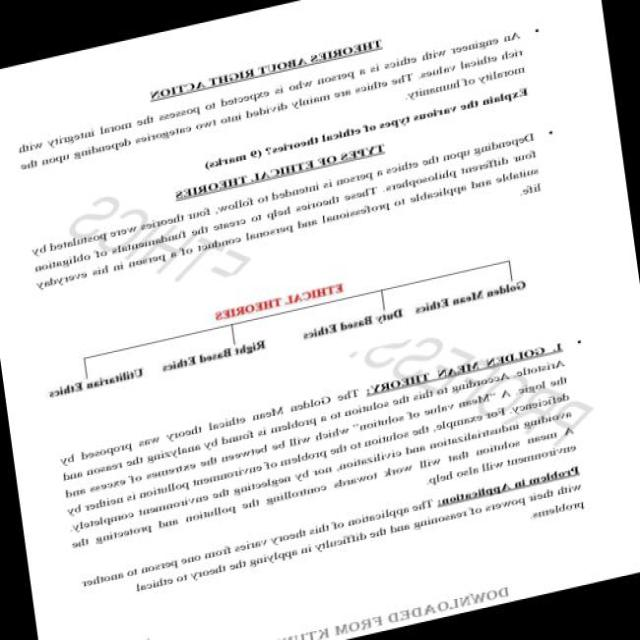Figure Detection - v3 Dataset Version2: (38, 221, 540, 416)
